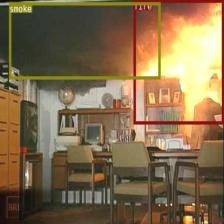fire: (133, 0, 223, 124)
smoke: (9, 2, 160, 78)
